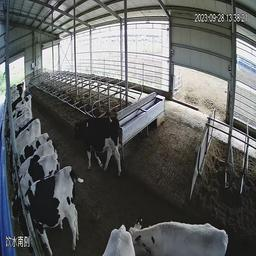cow: (87, 184, 203, 256), (14, 164, 79, 248), (64, 110, 109, 173), (6, 151, 63, 194), (7, 128, 56, 163), (5, 109, 39, 136), (5, 87, 35, 111)
